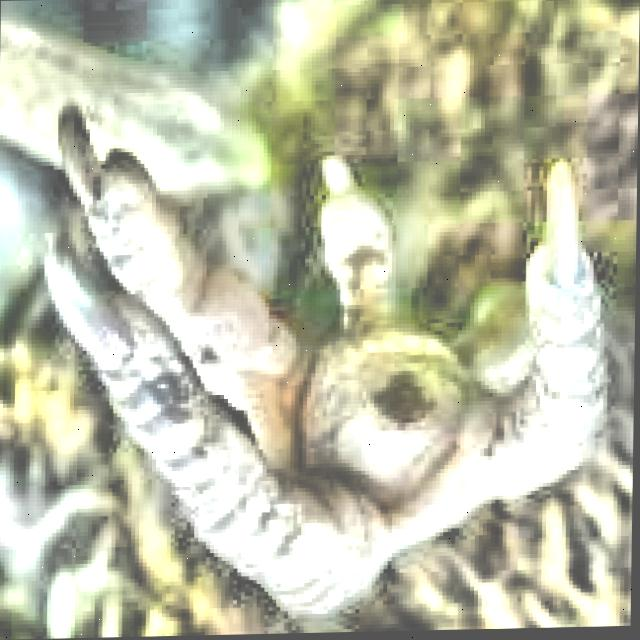Bumble foot: (284, 291, 515, 518)
